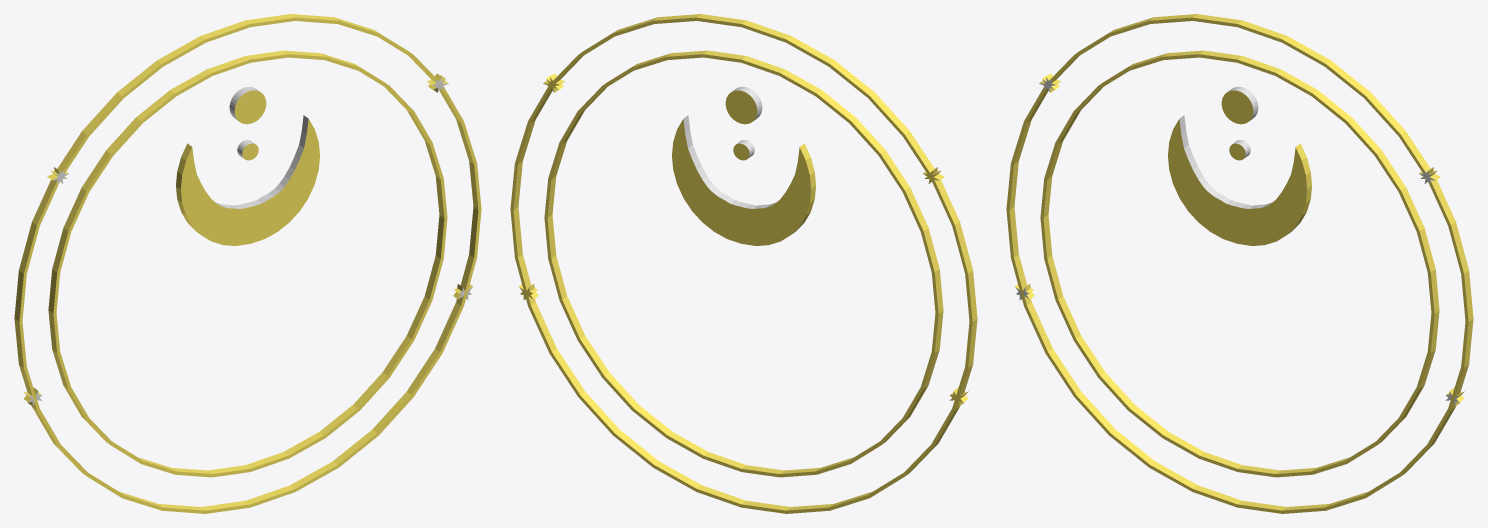
The model's file is moon.fbx.
3 views of the same model, side by side, from view 1: azimuth 30°, elevation 25°; view 2: azimuth 150°, elevation 25°; view 3: azimuth 330°, elevation 25° (orthographic).
Visible parts, largest first — view 1: Circle; view 2: Circle; view 3: Circle.
Part boxes in pixels (bbox=[...]): Circle: bbox=[14, 14, 481, 513]; Circle: bbox=[510, 14, 977, 513]; Circle: bbox=[1006, 14, 1473, 513].
Bounding box in the file's own units: 1959 × 1959 × 36.69.
